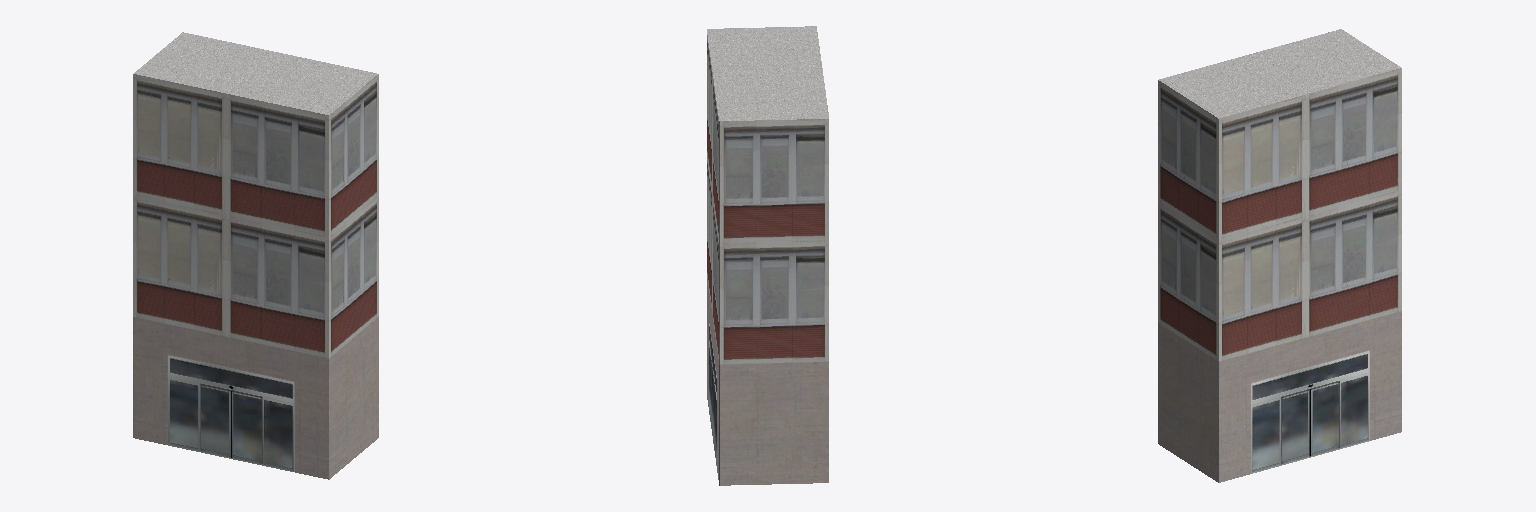
The picture shows the model from 3 angles: view 1: azimuth 30°, elevation 25°; view 2: azimuth 150°, elevation 25°; view 3: azimuth 270°, elevation 25°; orthographic projection.
Parts seen in each view (by area): view 1: BuildingMaster_[number redacted]_0, BuildingMaster_[number redacted]_1; view 2: BuildingMaster_[number redacted]_0, BuildingMaster_[number redacted]_1; view 3: BuildingMaster_[number redacted]_0, BuildingMaster_[number redacted]_1.
Boxes of the visible parts, box(x1,y1,x2,y2) form: BuildingMaster_[number redacted]_0: box(133, 74, 378, 479); BuildingMaster_[number redacted]_1: box(134, 32, 377, 114); BuildingMaster_[number redacted]_0: box(707, 35, 828, 485); BuildingMaster_[number redacted]_1: box(707, 26, 828, 120); BuildingMaster_[number redacted]_0: box(1158, 68, 1401, 482); BuildingMaster_[number redacted]_1: box(1159, 29, 1400, 118).
Size of the model in its own units: 5.55 by 10.5 by 6.37.
2 materials, 2 textured.